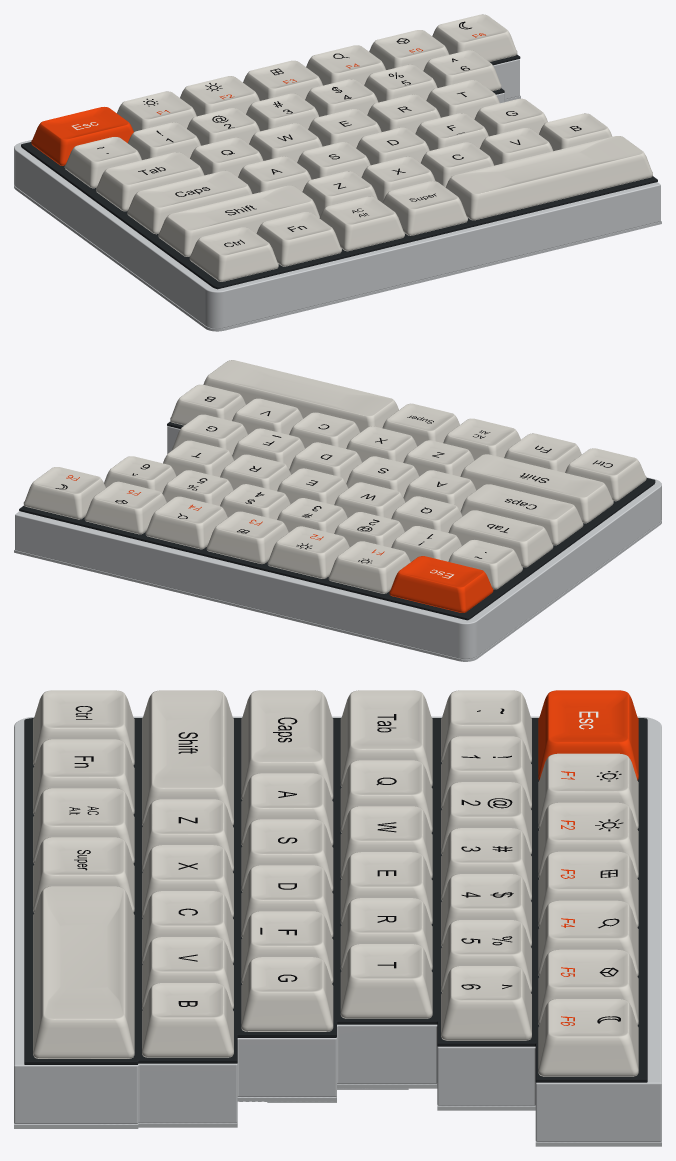
The model's file is noma-01-v32-left.glb.
3 views of the same model, one above another, from view 1: azimuth 30°, elevation 25°; view 2: azimuth 150°, elevation 25°; view 3: azimuth 270°, elevation 25° (orthographic). The views are drawn at different scales.
Visible parts, largest first — view 1: left Satin aluminum, Key, left Dark plate and screen bezel, Key Shift, Key Caps, Key Ctrl, Key Esc, Key Tab, Key ACAlt, Key Super, Key Fn, Key F6 (+28 smaller); view 2: left Satin aluminum, Key, left Dark plate and screen bezel, Key Shift, Key Esc, Key Caps, Key Tab, Key F1, Key F5, Key F6, Key F2, Key F4 (+28 smaller); view 3: left Satin aluminum, left Dark plate and screen bezel, Key, Key Shift, Key Caps, Key F6, Key T, Key G, Key B, Key Tab, Key ^6, Key Esc (+28 smaller).
Boxes of the visible parts, x1,y1,x2,y2 form: left Satin aluminum: (14, 59, 660, 328); Key: (445, 136, 652, 220); left Dark plate and screen bezel: (21, 54, 657, 289); Key Shift: (158, 185, 319, 256); Key Caps: (127, 171, 252, 234); Key Ctrl: (189, 227, 278, 281); Key Esc: (31, 107, 133, 165); Key Tab: (96, 152, 204, 211); Key ACAlt: (319, 196, 404, 251); Key Super: (382, 181, 467, 235); Key Fn: (256, 212, 341, 266); Key F6: (432, 14, 517, 61); left Satin aluminum: (15, 426, 661, 659); Key: (203, 360, 398, 432); left Dark plate and screen bezel: (19, 421, 655, 620); Key Shift: (460, 454, 613, 523); Key Esc: (389, 556, 493, 612); Key Caps: (460, 484, 583, 545); Key Tab: (448, 510, 553, 567); Key F1: (328, 541, 410, 593); Key F5: (84, 481, 166, 534); Key F6: (23, 467, 105, 519); Key F2: (267, 526, 349, 578); Key F4: (145, 496, 227, 549); left Satin aluminum: (14, 716, 661, 1141); left Dark plate and screen bezel: (24, 718, 647, 1082); Key: (33, 886, 134, 1058); Key Shift: (142, 690, 233, 825); Key Caps: (241, 690, 333, 799); Key F6: (538, 999, 638, 1076); Key T: (340, 944, 432, 1018); Key G: (241, 957, 333, 1031); Key B: (142, 983, 233, 1057); Key Tab: (340, 690, 432, 786); Key ^6: (441, 966, 531, 1040); Key Esc: (538, 690, 638, 780).
Size of the model in its own units: 0.1595 by 0.0229 by 0.1189.
